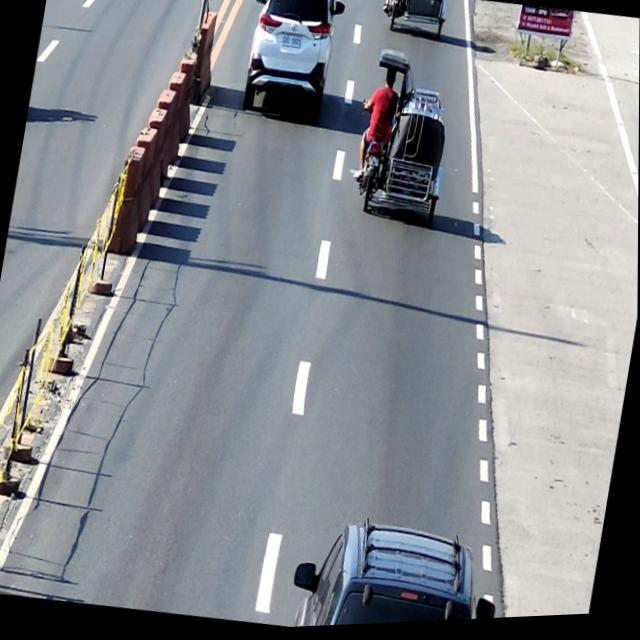Car: (286, 507, 509, 630), (236, 0, 348, 128)
License-Plate: (282, 35, 303, 51), (367, 158, 382, 173), (393, 0, 402, 4)
Tricycle: (346, 47, 463, 236), (384, 0, 449, 44)
